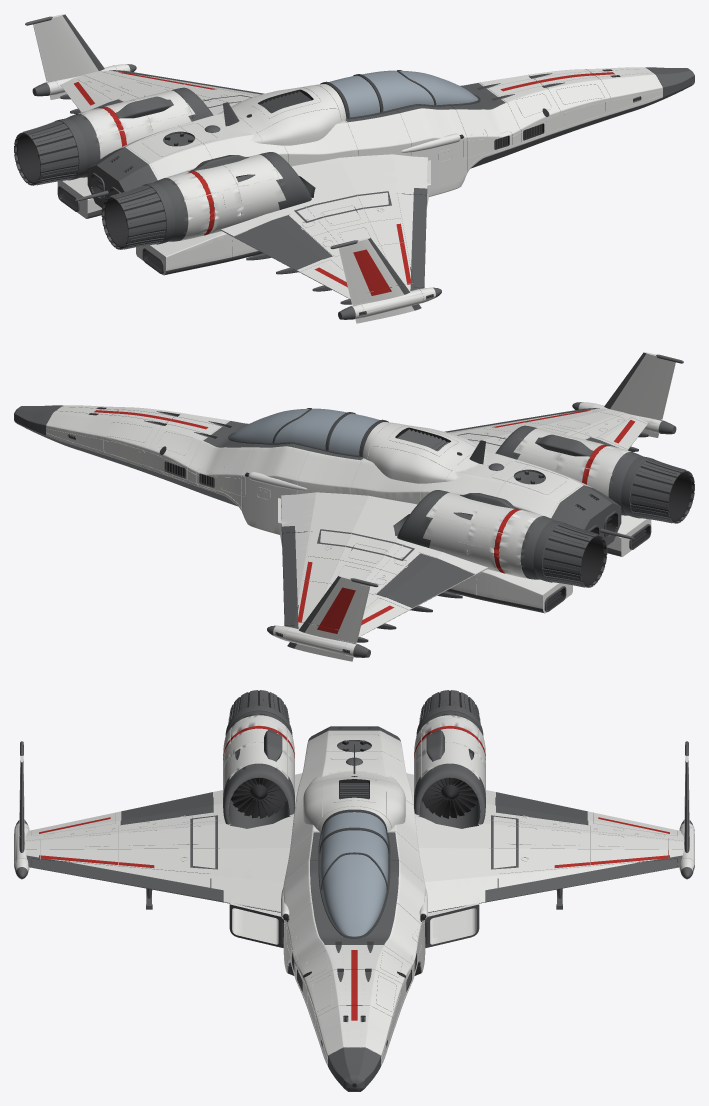
The model's file is fighter.fbx.
3 renders of one model, top to bottom at view 1: azimuth 30°, elevation 25°; view 2: azimuth 150°, elevation 25°; view 3: azimuth 270°, elevation 25°, orthographic. The views are drawn at different scales.
Parts seen in each view (by area): view 1: Fighter_Body, Fighter_CanopyGlass; view 2: Fighter_Body, Fighter_CanopyGlass; view 3: Fighter_Body, Fighter_CanopyGlass.
Part boxes in pixels (x1,y1,x2,y2): Fighter_Body: (14,14,694,323); Fighter_CanopyGlass: (329,70,478,117); Fighter_Body: (14,352,694,661); Fighter_CanopyGlass: (230,408,379,455); Fighter_Body: (14,690,694,1091); Fighter_CanopyGlass: (320,812,388,936).
Bounding box in the file's own units: 15.22 × 3.1 × 13.27.
